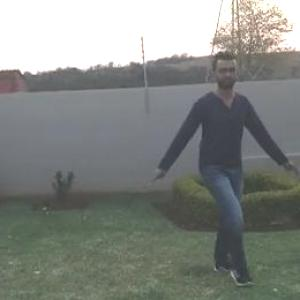land: (148, 49, 282, 275)
